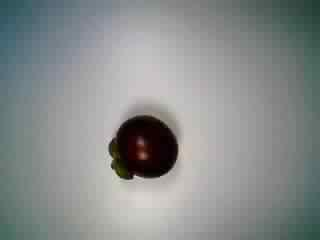mangosteen: (99, 108, 180, 185)
